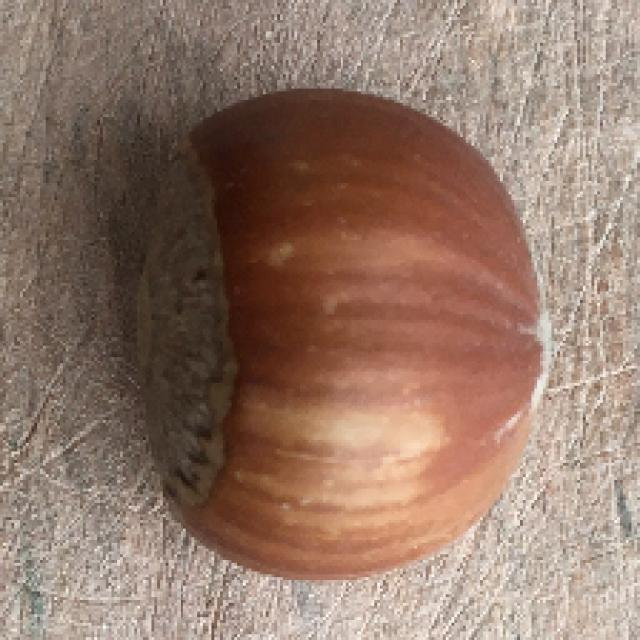DamagedHazelnut: (131, 91, 552, 576)
